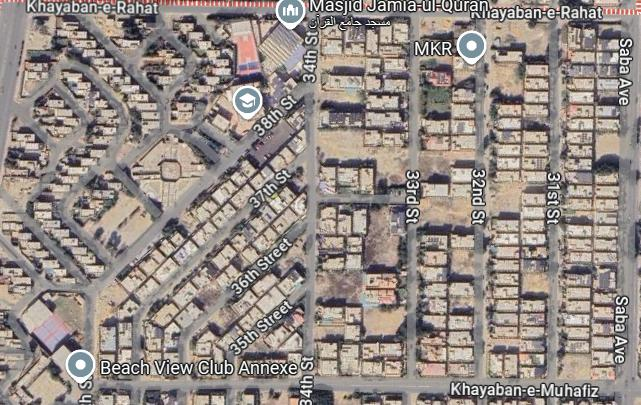Buildings: (116, 97, 308, 304), (144, 163, 308, 379), (313, 19, 412, 376), (485, 25, 550, 377), (560, 21, 622, 378), (416, 15, 477, 376), (29, 70, 123, 281), (15, 12, 161, 145), (189, 232, 309, 378), (65, 170, 157, 261), (163, 11, 237, 122), (123, 133, 210, 211), (239, 300, 305, 375), (95, 279, 141, 379), (141, 33, 187, 89), (35, 89, 81, 144)
